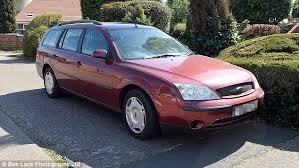Dent: (155, 84, 178, 109)
